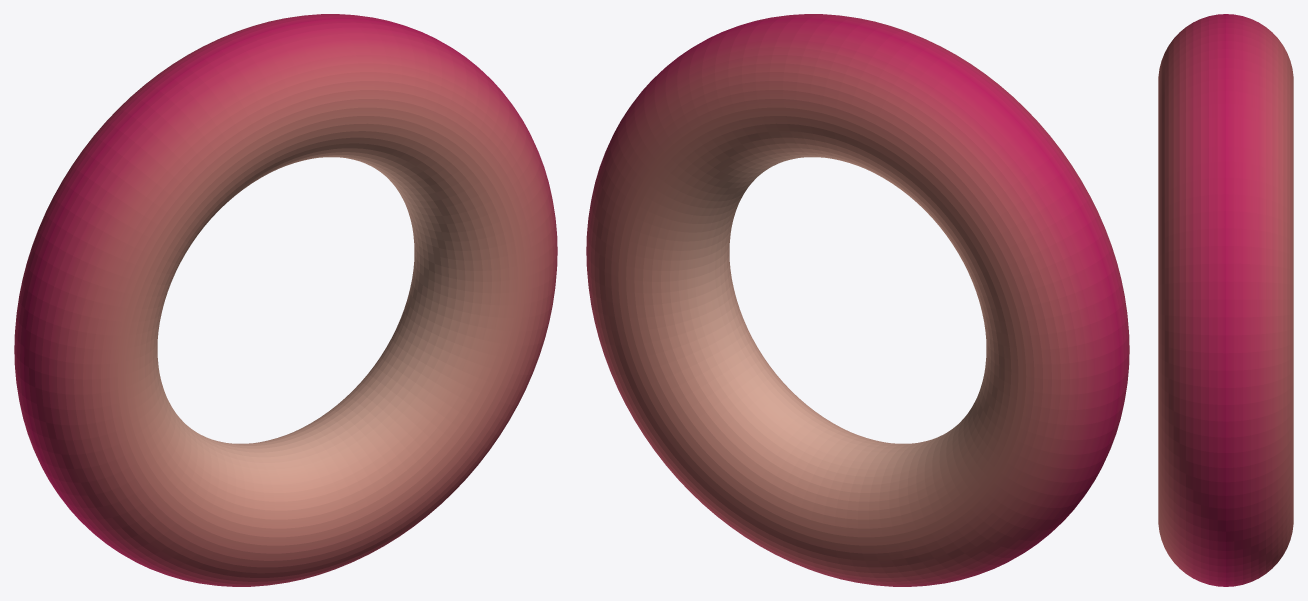
3 views of the same model, side by side, from view 1: azimuth 30°, elevation 25°; view 2: azimuth 150°, elevation 25°; view 3: azimuth 270°, elevation 25° (orthographic). The views are drawn at different scales.
Parts seen in each view (by area): view 1: world; view 2: world; view 3: world.
Part boxes in pixels (x1,y1,x2,y2): world: (14,14,557,586); world: (586,14,1129,586); world: (1158,14,1293,586).
Bounding box in the file's own units: 17.47 × 17.47 × 4.13.
